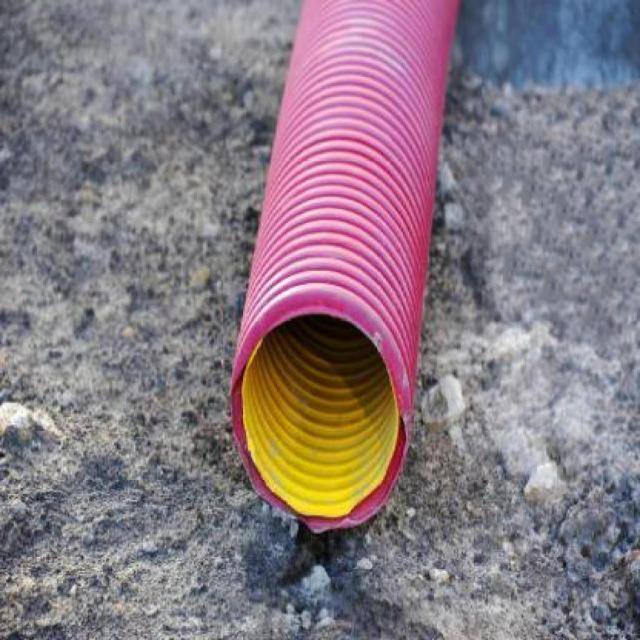pipe: (229, 289, 408, 531)
